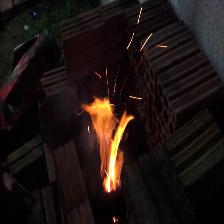fire: (87, 101, 130, 191)
